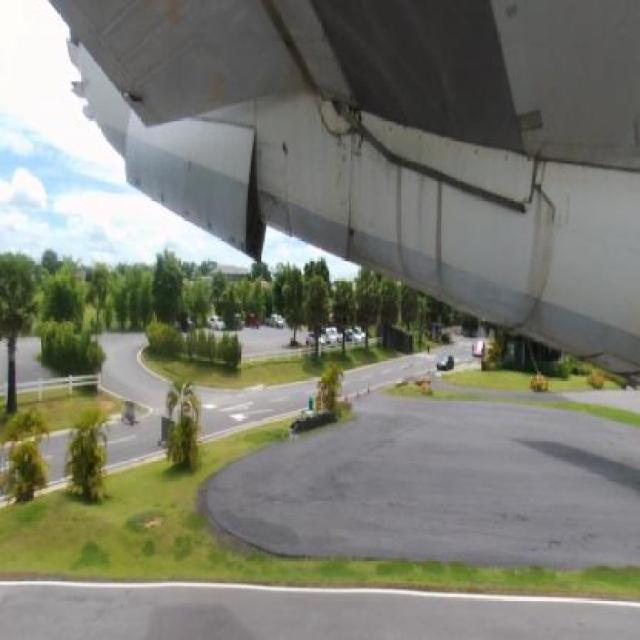Rust: (506, 165, 571, 352), (378, 142, 457, 292), (311, 90, 375, 182), (322, 186, 382, 279), (267, 33, 325, 116), (253, 136, 298, 242), (119, 2, 206, 43), (189, 52, 240, 112), (224, 225, 256, 263), (180, 199, 197, 238), (157, 186, 174, 214), (204, 212, 219, 240), (131, 170, 147, 195)
Scartch: (325, 127, 358, 213), (117, 76, 161, 129)
